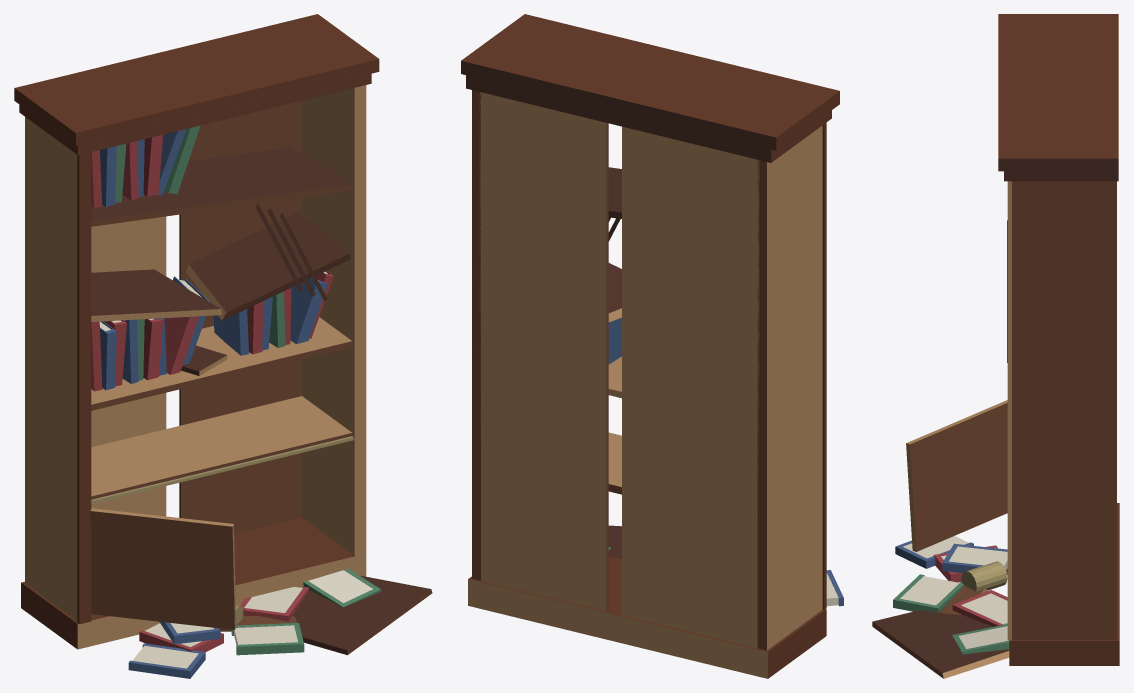
File: book_master_v2.fbx
3 renders of one model, left to right at view 1: azimuth 30°, elevation 25°; view 2: azimuth 150°, elevation 25°; view 3: azimuth 270°, elevation 25°, orthographic. The views are drawn at different scales.
Visible parts, largest first — view 1: 02_DirectorBookshelf_Wrecked_Frame_Carcass, 02_DirectorBookshelf_Wrecked_Shelves_And_Doors, 02_DirectorBookshelf_Wrecked_Books_On_Shelves, 02_DirectorBookshelf_Wrecked_Fallen_Debris_And_Books, 02_DirectorBookshelf_Wrecked_Decor_Trophy_And_Frames; view 2: 02_DirectorBookshelf_Wrecked_Frame_Carcass, 02_DirectorBookshelf_Wrecked_Shelves_And_Doors, 02_DirectorBookshelf_Wrecked_Fallen_Debris_And_Books, 02_DirectorBookshelf_Wrecked_Books_On_Shelves; view 3: 02_DirectorBookshelf_Wrecked_Frame_Carcass, 02_DirectorBookshelf_Wrecked_Fallen_Debris_And_Books, 02_DirectorBookshelf_Wrecked_Shelves_And_Doors.
Part boxes in pixels (x1,y1,x2,y2): 02_DirectorBookshelf_Wrecked_Frame_Carcass: [14, 14, 379, 649]; 02_DirectorBookshelf_Wrecked_Shelves_And_Doors: [89, 147, 353, 629]; 02_DirectorBookshelf_Wrecked_Books_On_Shelves: [91, 125, 333, 391]; 02_DirectorBookshelf_Wrecked_Fallen_Debris_And_Books: [128, 568, 432, 678]; 02_DirectorBookshelf_Wrecked_Decor_Trophy_And_Frames: [181, 345, 227, 375]; 02_DirectorBookshelf_Wrecked_Frame_Carcass: [461, 14, 839, 678]; 02_DirectorBookshelf_Wrecked_Shelves_And_Doors: [608, 167, 621, 494]; 02_DirectorBookshelf_Wrecked_Fallen_Debris_And_Books: [608, 525, 843, 606]; 02_DirectorBookshelf_Wrecked_Books_On_Shelves: [608, 317, 621, 364]; 02_DirectorBookshelf_Wrecked_Frame_Carcass: [998, 14, 1119, 665]; 02_DirectorBookshelf_Wrecked_Fallen_Debris_And_Books: [872, 536, 1009, 678]; 02_DirectorBookshelf_Wrecked_Shelves_And_Doors: [906, 400, 1007, 551].
Size of the model in its own units: 134 by 205 by 89.65.
